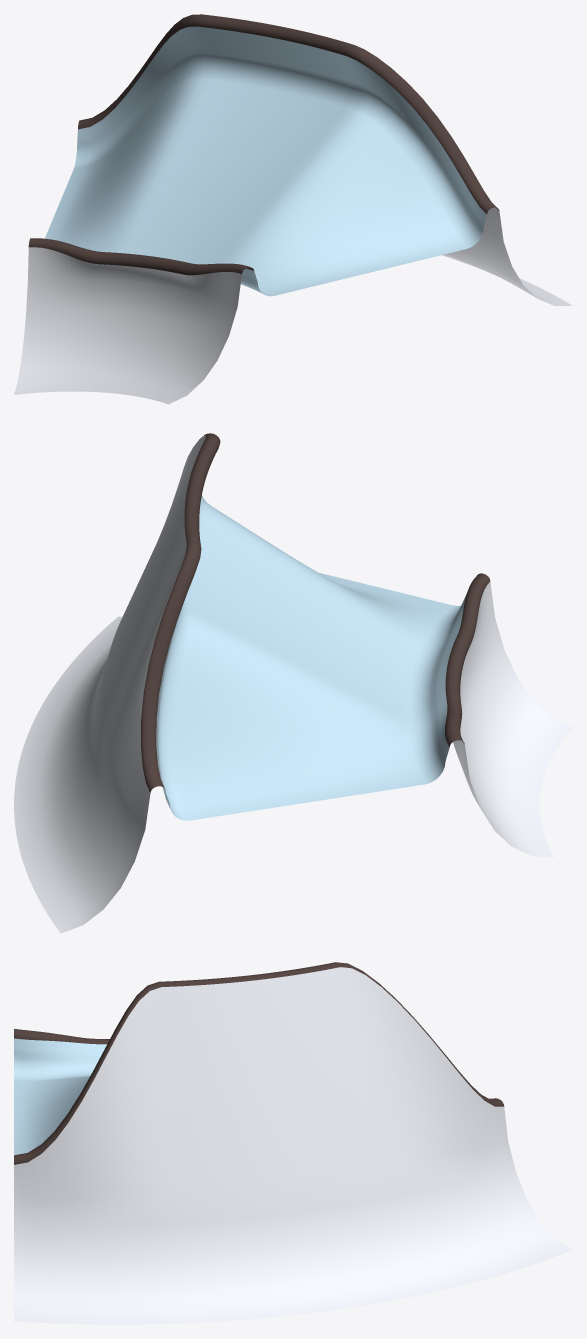
File: BobsledCurveL.obj
3 views of the same model, one above another, from view 1: azimuth 30°, elevation 25°; view 2: azimuth 150°, elevation 25°; view 3: azimuth 270°, elevation 25° (orthographic). The views are drawn at different scales.
Parts seen in each view (by area): view 1: Ice, Snow, Trim; view 2: Ice, Snow, Trim; view 3: Snow, Ice, Trim.
Part boxes in pixels (left/top/right/bottom): Ice: left=45, top=26, right=486, bottom=296; Snow: left=14, top=207, right=572, bottom=404; Trim: left=28, top=14, right=499, bottom=275; Ice: left=156, top=495, right=467, bottom=820; Snow: left=14, top=435, right=572, bottom=933; Trim: left=141, top=433, right=490, bottom=792; Snow: left=14, top=967, right=572, bottom=1324; Ice: left=14, top=1038, right=106, bottom=1155; Trim: left=14, top=962, right=504, bottom=1164.
Size of the model in its own units: 83.82 by 47.86 by 81.05.
